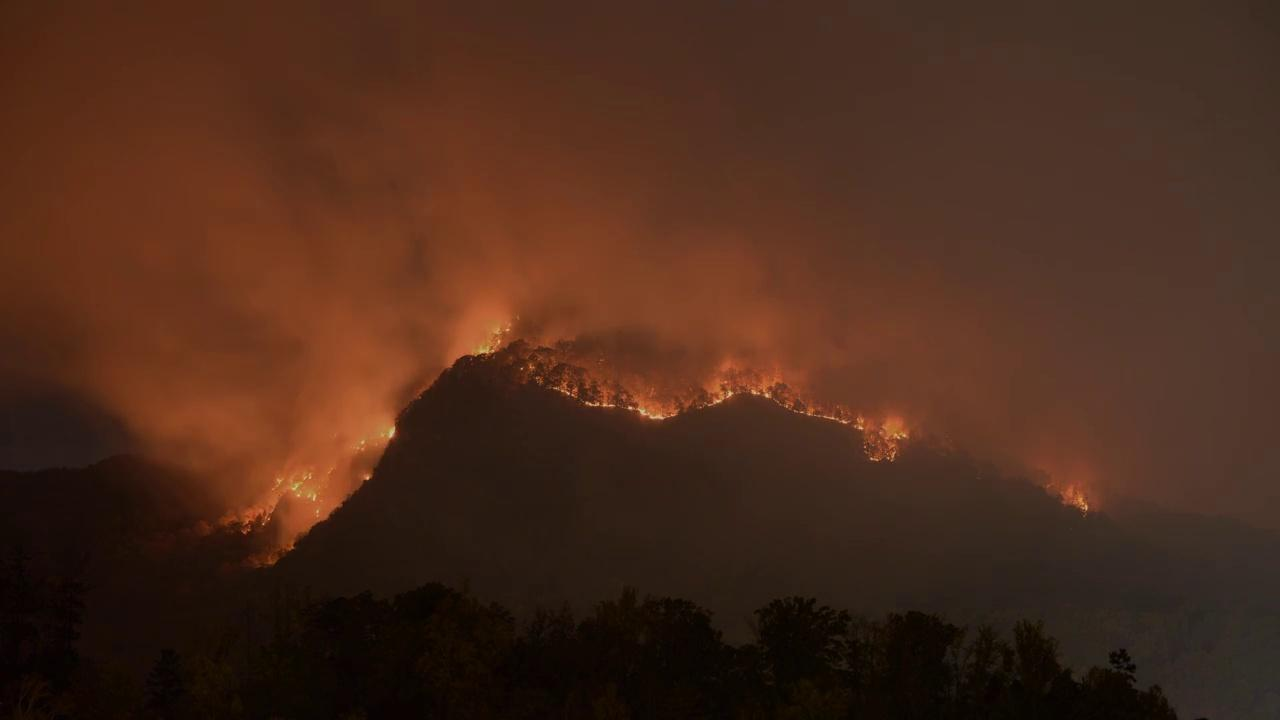fire: (262, 452, 342, 538), (636, 396, 670, 426), (470, 328, 506, 356)
